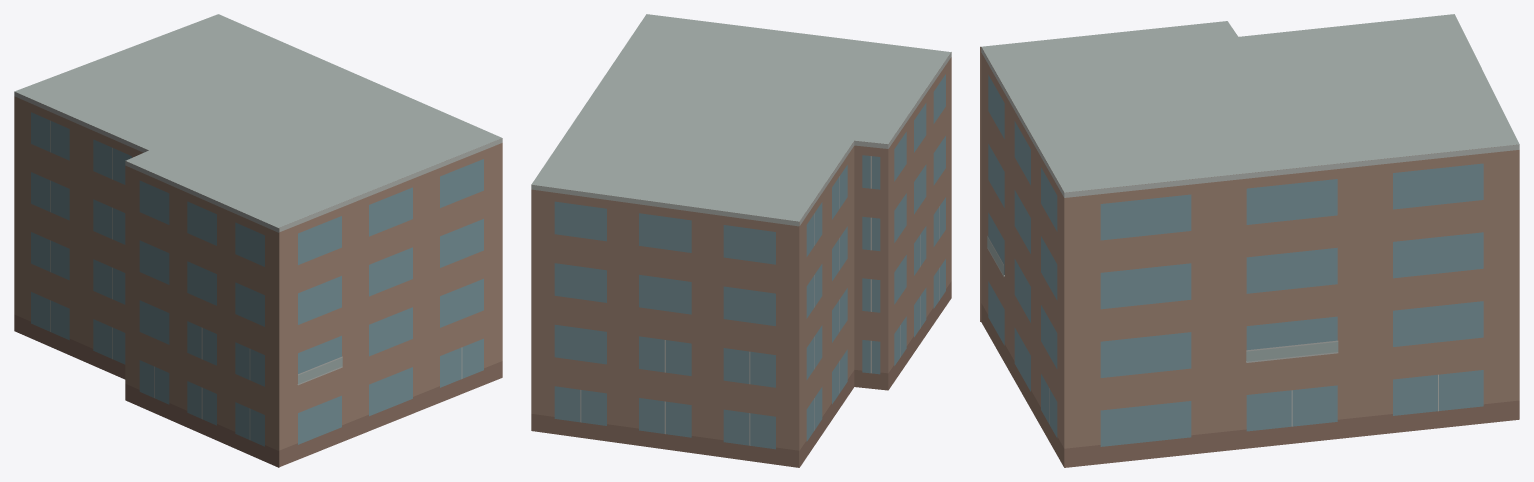
File: survey-upis-33007443.glb
3 views of the same model, side by side, from view 1: azimuth 30°, elevation 25°; view 2: azimuth 150°, elevation 25°; view 3: azimuth 270°, elevation 25° (orthographic). The views are drawn at different scales.
Parts seen in each view (by area): view 1: survey-upis-33007443.tmp; view 2: survey-upis-33007443.tmp; view 3: survey-upis-33007443.tmp.
Boxes of the visible parts, x1,y1,x2,y2 form: survey-upis-33007443.tmp: (14, 14, 502, 467); survey-upis-33007443.tmp: (531, 14, 951, 467); survey-upis-33007443.tmp: (980, 14, 1519, 467).
Size of the model in its own units: 17.41 by 12.5 by 22.22.
